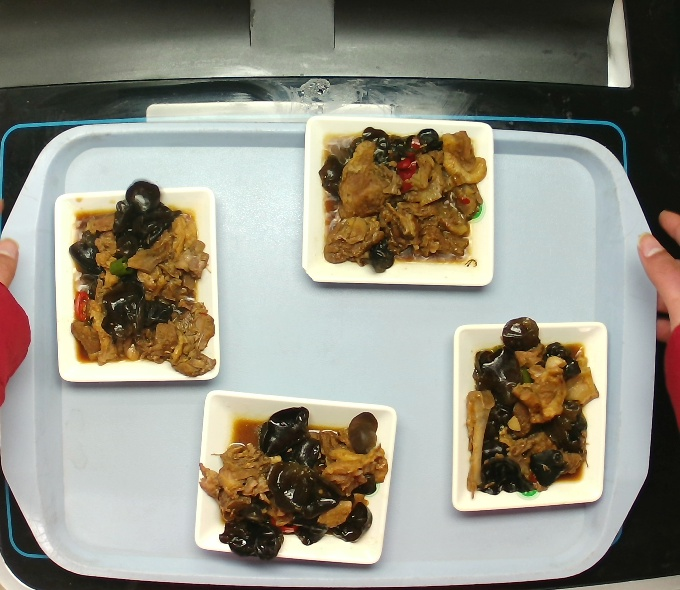wcq-MuErYaRou: (64, 177, 222, 380), (204, 411, 398, 555), (454, 317, 601, 507), (320, 131, 479, 275)
